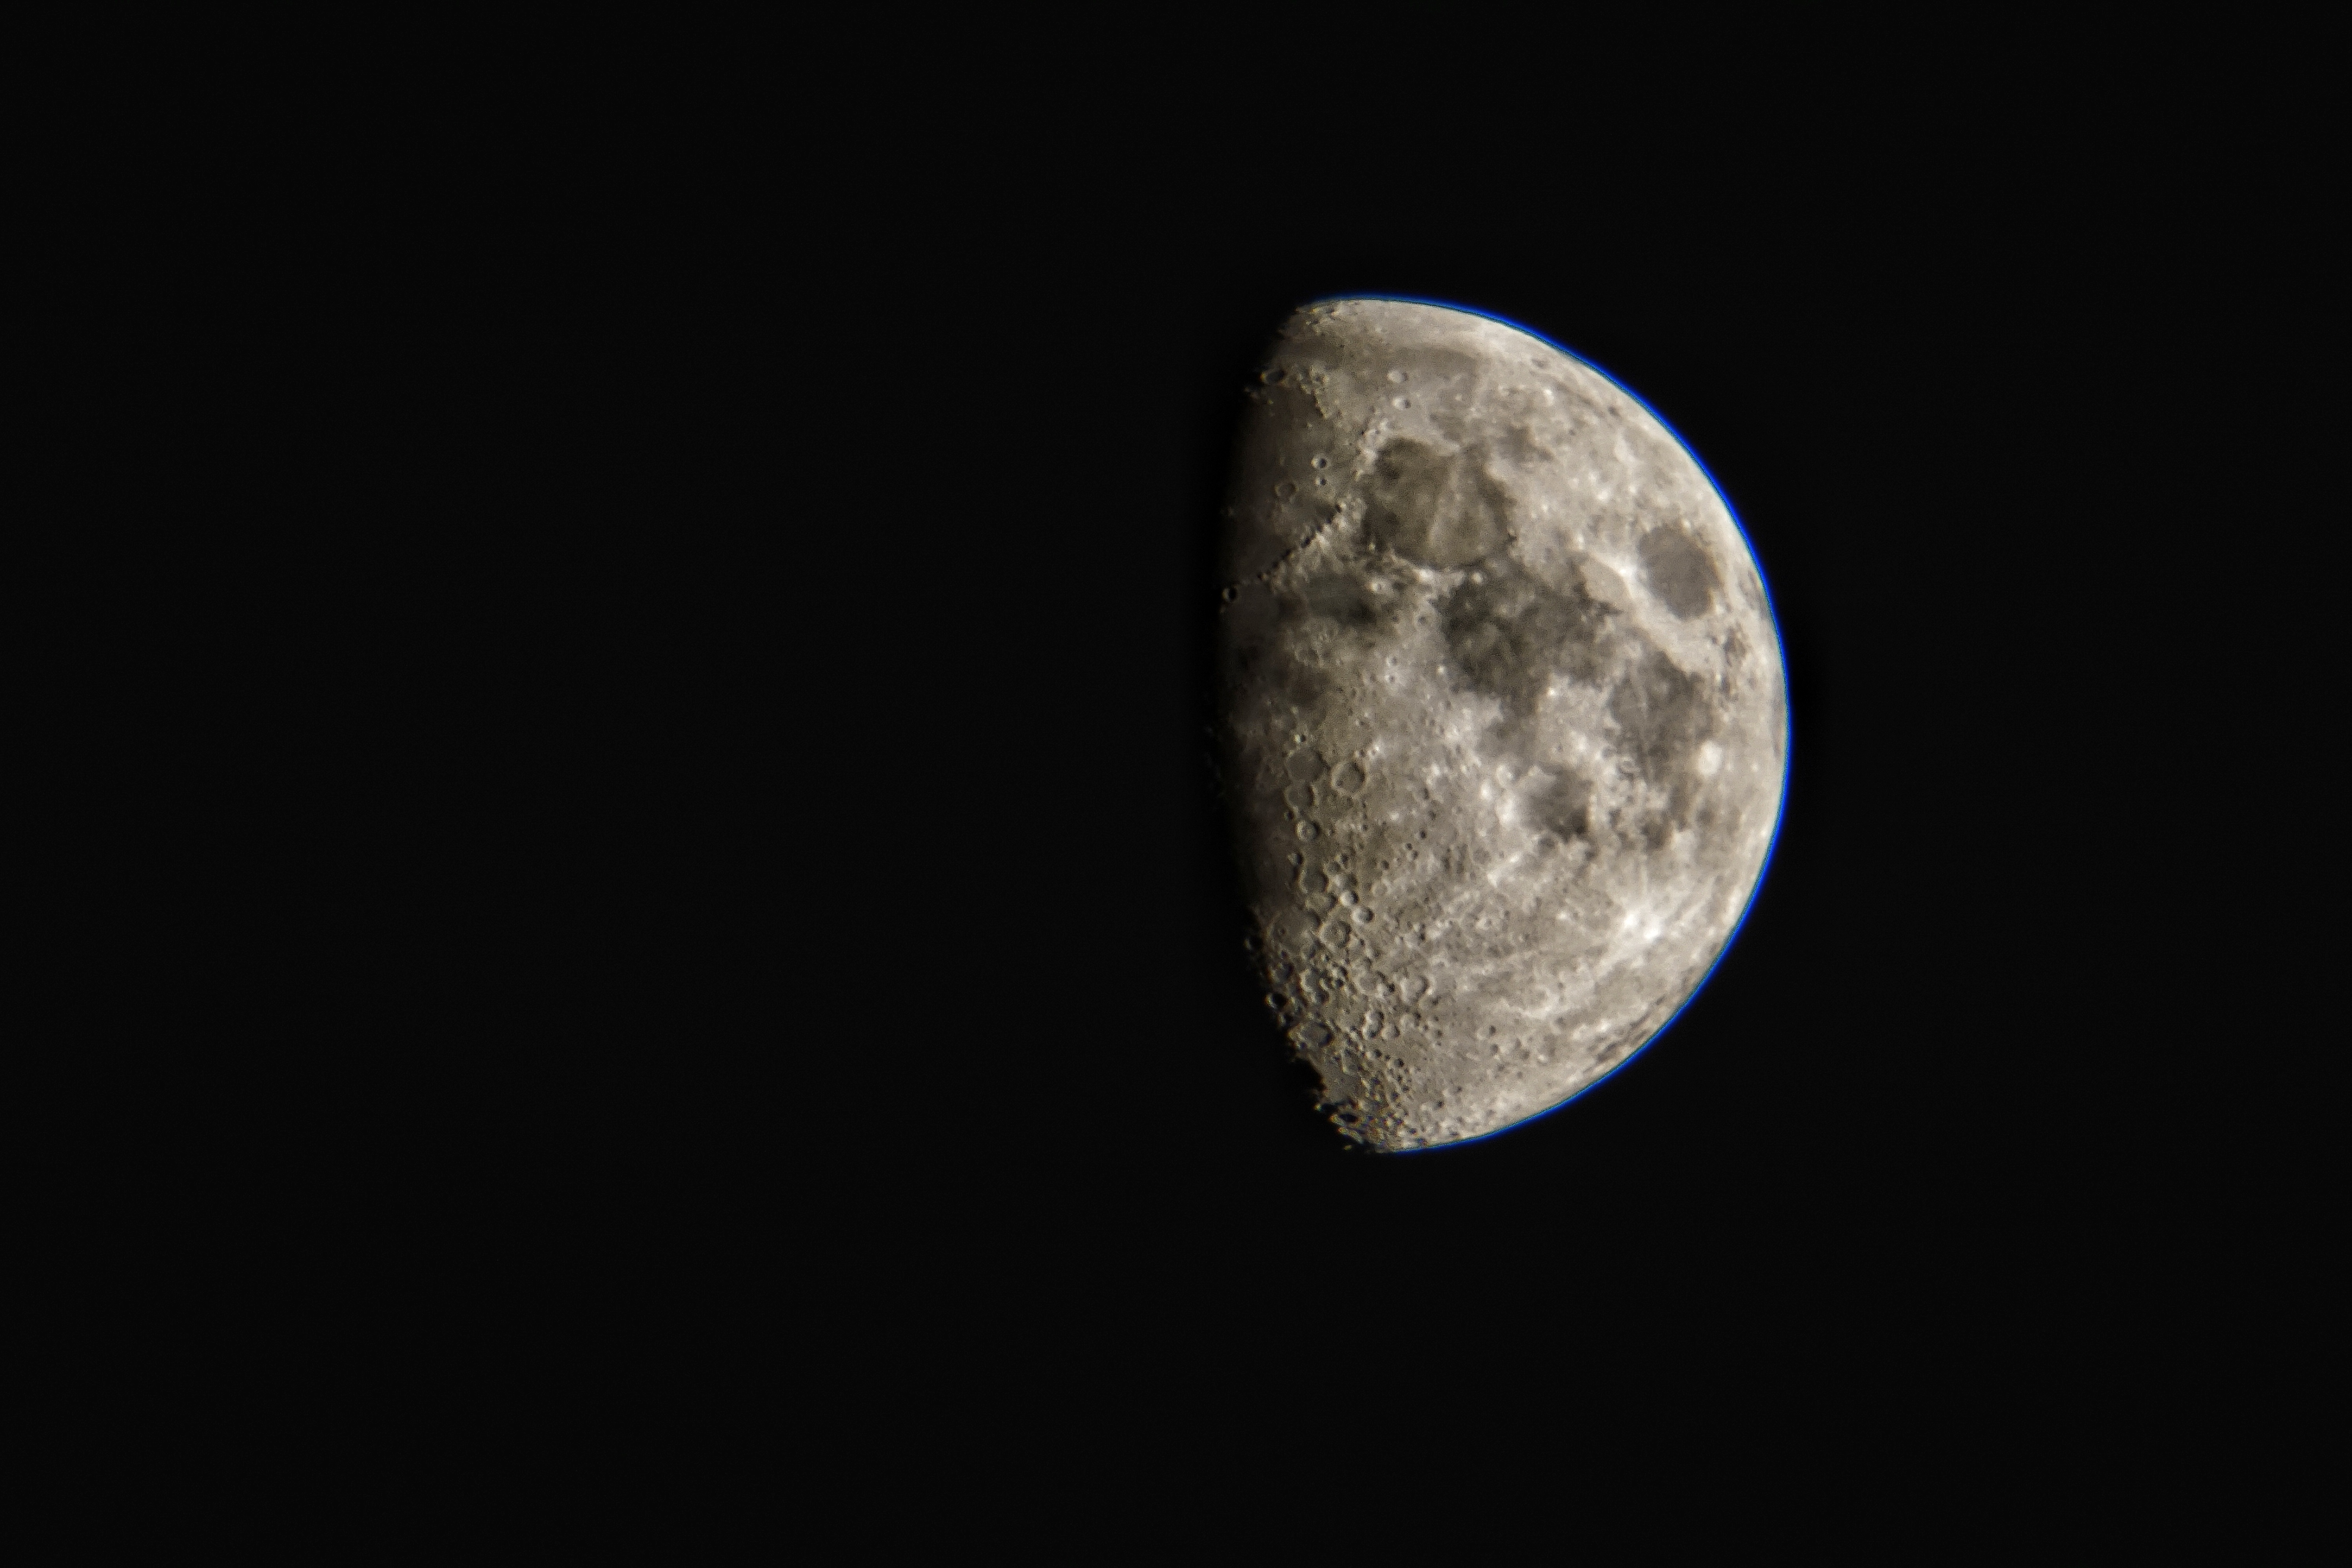crater: (1346, 422, 1528, 586), (1608, 511, 1729, 667), (1321, 735, 1395, 803), (1671, 721, 1741, 789), (1372, 357, 1431, 390), (1377, 390, 1435, 424), (1347, 901, 1382, 940)
